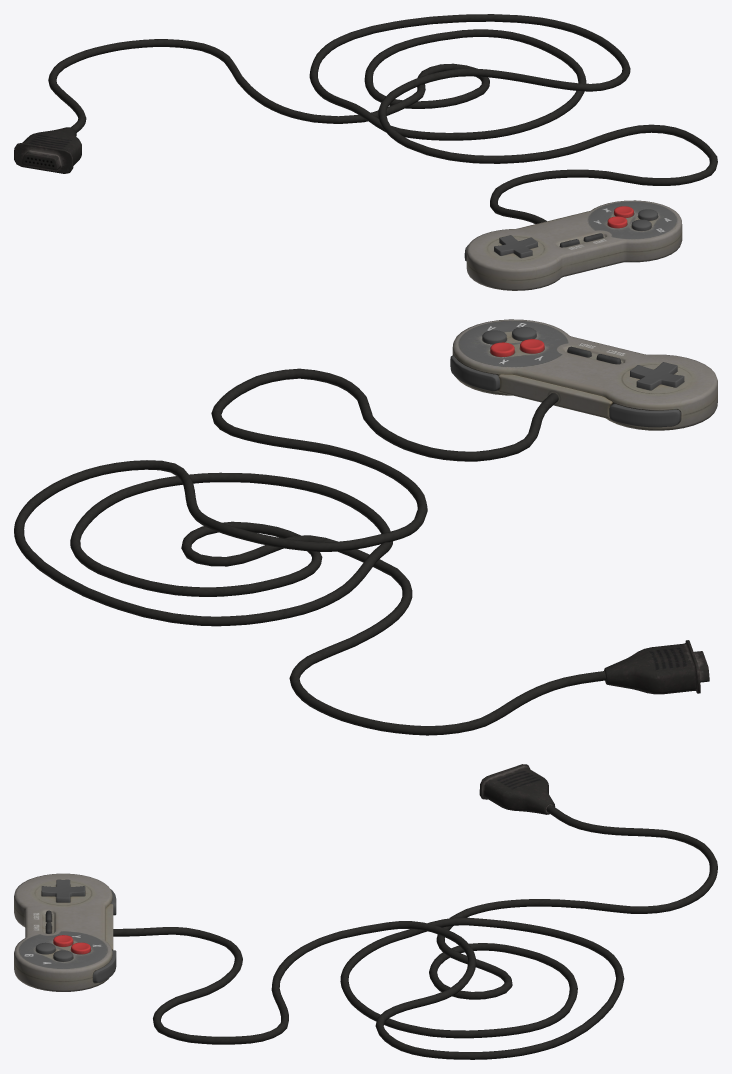
Rendered from gamepad.glb.
3 renders of one model, top to bottom at view 1: azimuth 30°, elevation 25°; view 2: azimuth 150°, elevation 25°; view 3: azimuth 270°, elevation 25°, orthographic. The views are drawn at different scales.
Parts seen in each view (by area): view 1: gamepad; view 2: gamepad; view 3: gamepad.
Boxes of the visible parts, x1,y1,x2,y2 form: gamepad: (14,14,717,290); gamepad: (14,319,717,735); gamepad: (14,764,717,1059).
Bounding box in the file's own units: 0.4041 × 0.0189 × 0.435.
1 material, 1 textured.
